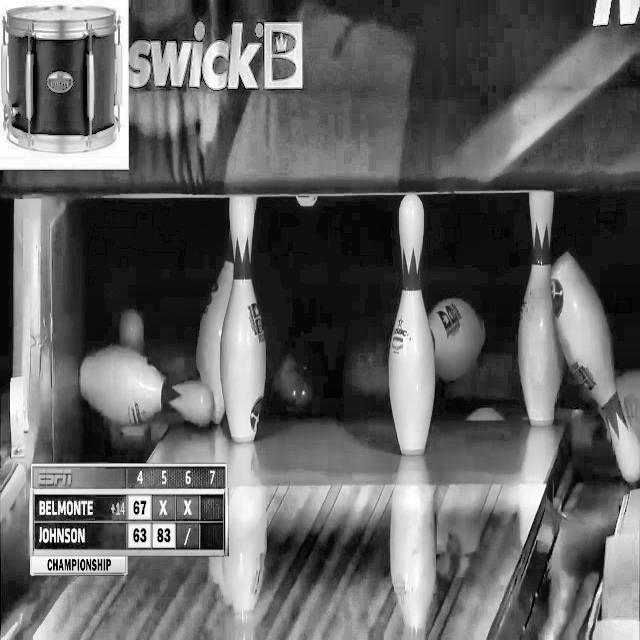bowling-pins: (390, 193, 436, 455), (220, 196, 266, 442)
